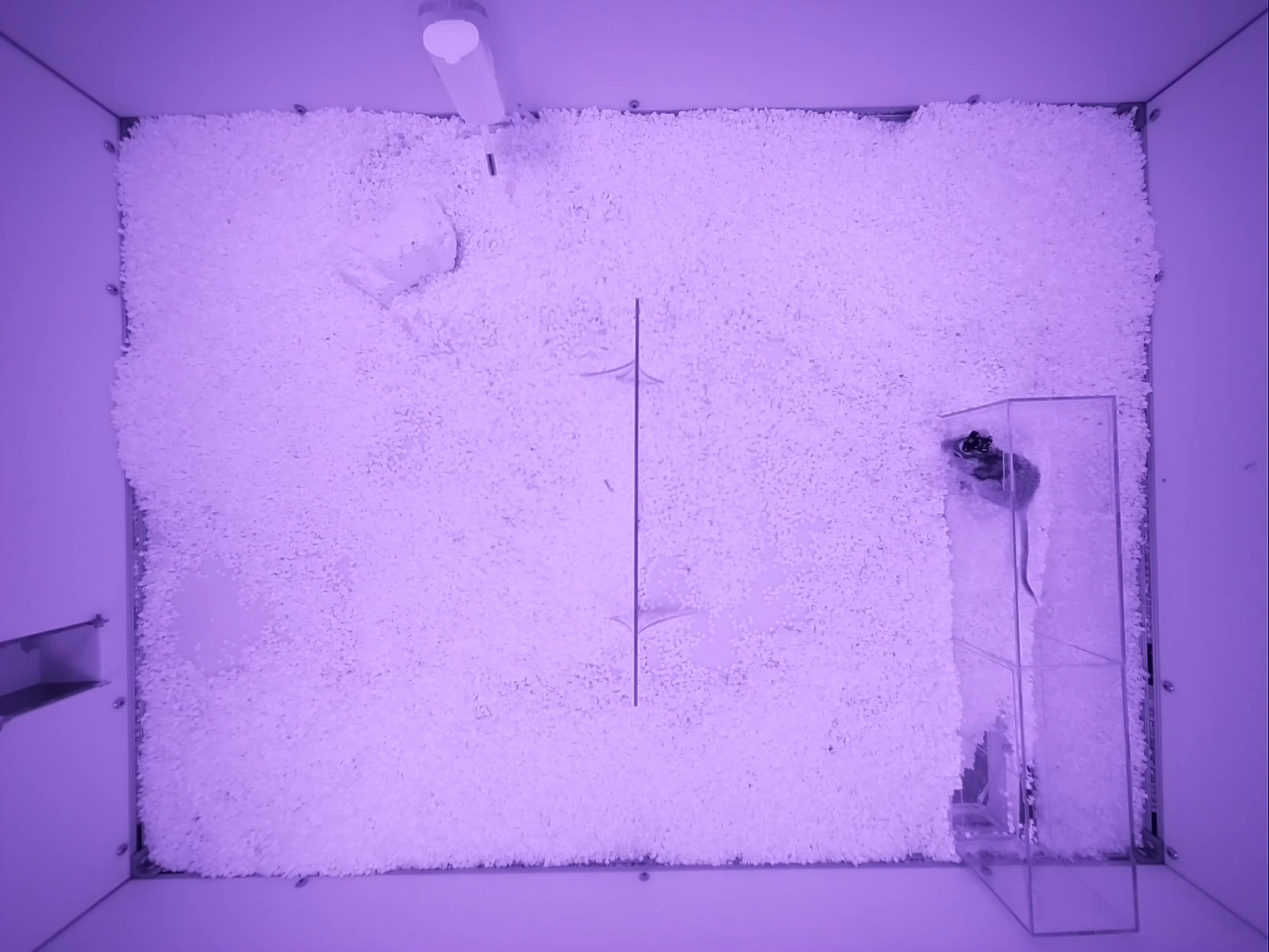adult_back: (943, 430, 1039, 600)
